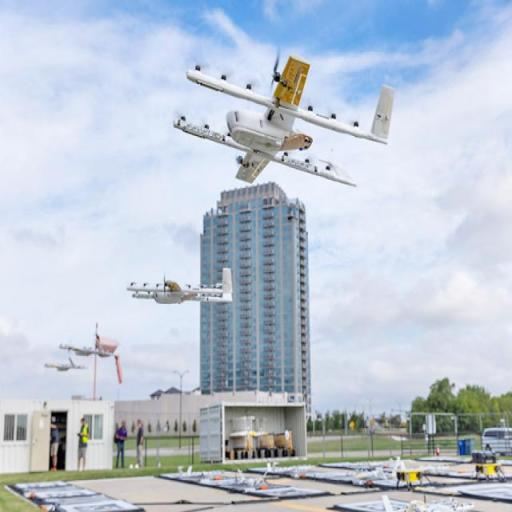uav: (174, 51, 402, 201)
